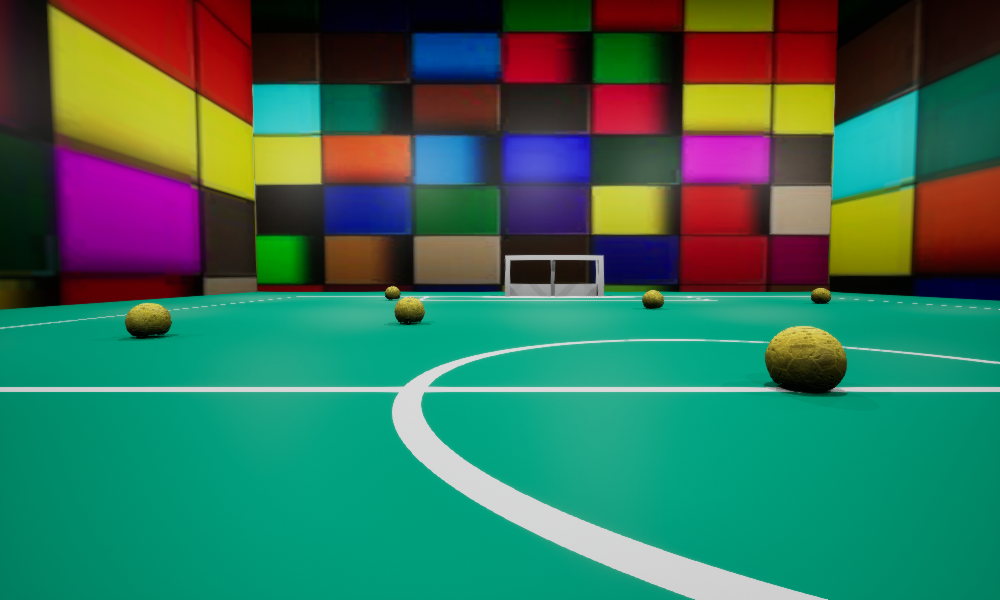b: (765, 326, 846, 391), (125, 303, 171, 337), (394, 297, 424, 323), (642, 290, 663, 308), (811, 288, 830, 303), (385, 286, 400, 299)
g: (505, 255, 603, 295)
